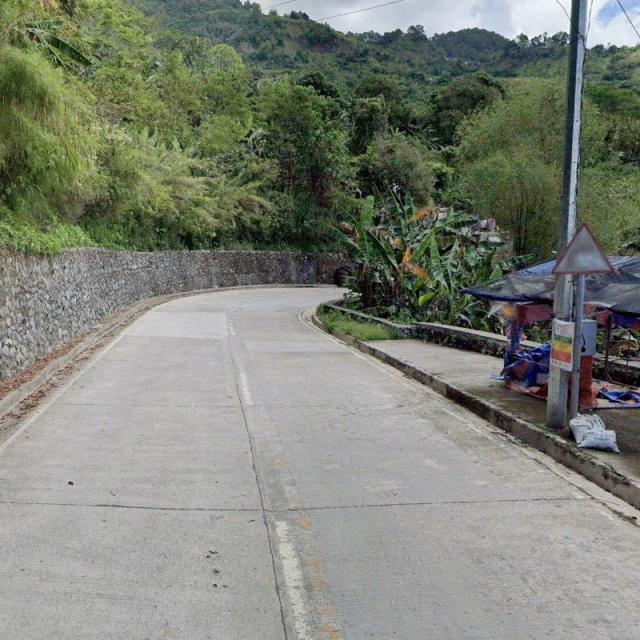warn_right_curve: (552, 221, 615, 273)
